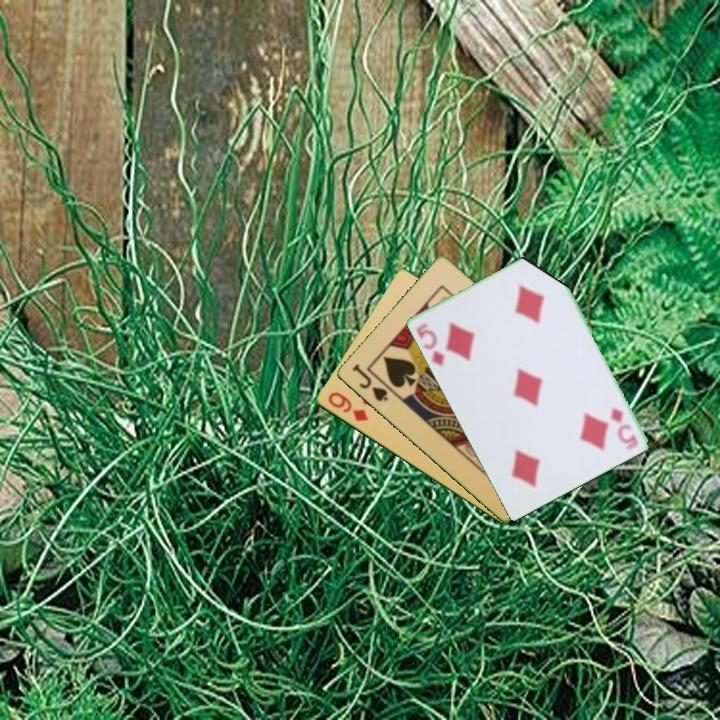5d: (412, 319, 447, 369), (607, 404, 640, 452)
9d: (324, 388, 371, 425)
Js: (348, 360, 391, 405)
